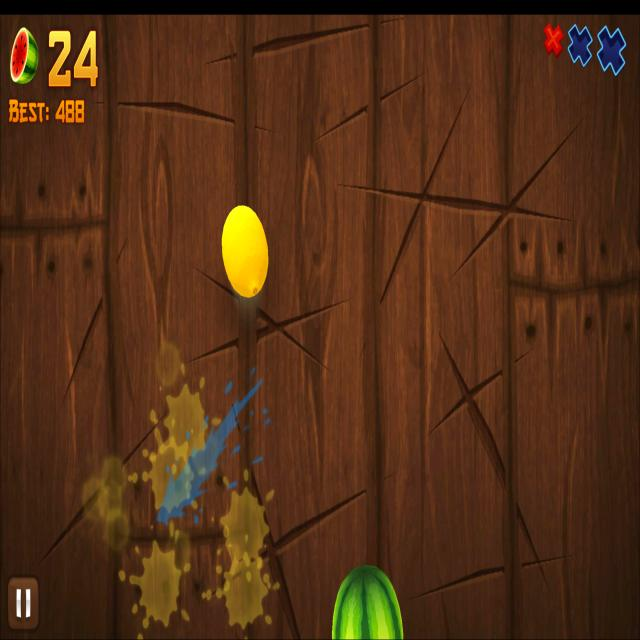fruit: (332, 564, 404, 640), (222, 205, 269, 297)
